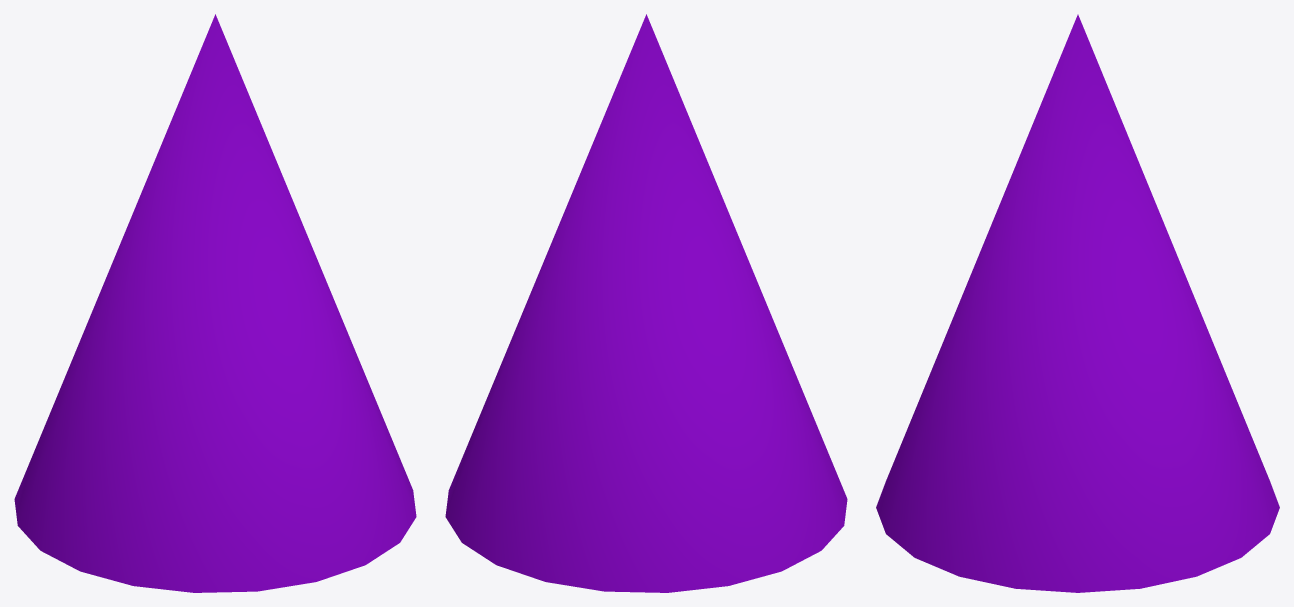
File: Lean_Cone.fbx
3 views of the same model, side by side, from view 1: azimuth 30°, elevation 25°; view 2: azimuth 150°, elevation 25°; view 3: azimuth 270°, elevation 25° (orthographic).
Parts seen in each view (by area): view 1: pCone1; view 2: pCone1; view 3: pCone1.
Boxes of the visible parts, bbox=[...] form: pCone1: bbox=[14, 14, 416, 592]; pCone1: bbox=[445, 14, 847, 592]; pCone1: bbox=[876, 14, 1279, 592].
Bounding box in the file's own units: 84.96 × 115 × 84.96.
